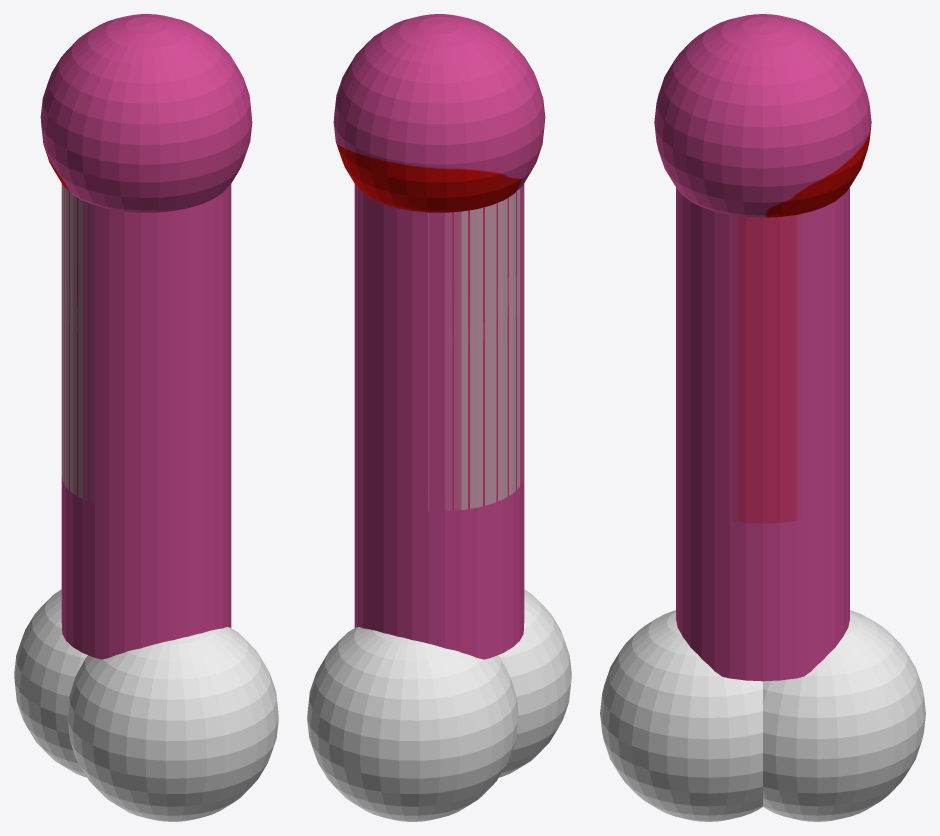
Rendered from pine.glb.
The picture shows the model from 3 angles, left to right: view 1: azimuth 30°, elevation 25°; view 2: azimuth 150°, elevation 25°; view 3: azimuth 270°, elevation 25°; orthographic projection. The views are drawn at different scales.
Parts seen in each view (by area): view 1: Cylinder, Sphere, Sphere.001; view 2: Cylinder, Sphere.001, Sphere; view 3: Cylinder, Sphere, Sphere.001.
Part boxes in pixels (box(x1,y1,x2,y2)): Cylinder: box(40, 14, 252, 659); Sphere: box(67, 627, 278, 821); Sphere.001: box(14, 589, 87, 777); Cylinder: box(333, 14, 545, 659); Sphere.001: box(307, 627, 518, 821); Sphere: box(498, 589, 571, 777); Cylinder: box(654, 14, 871, 681); Sphere: box(600, 610, 762, 821); Sphere.001: box(763, 610, 925, 821).
Bounding box in the file's own units: 2 × 8 × 3.
1 material, 1 textured.
